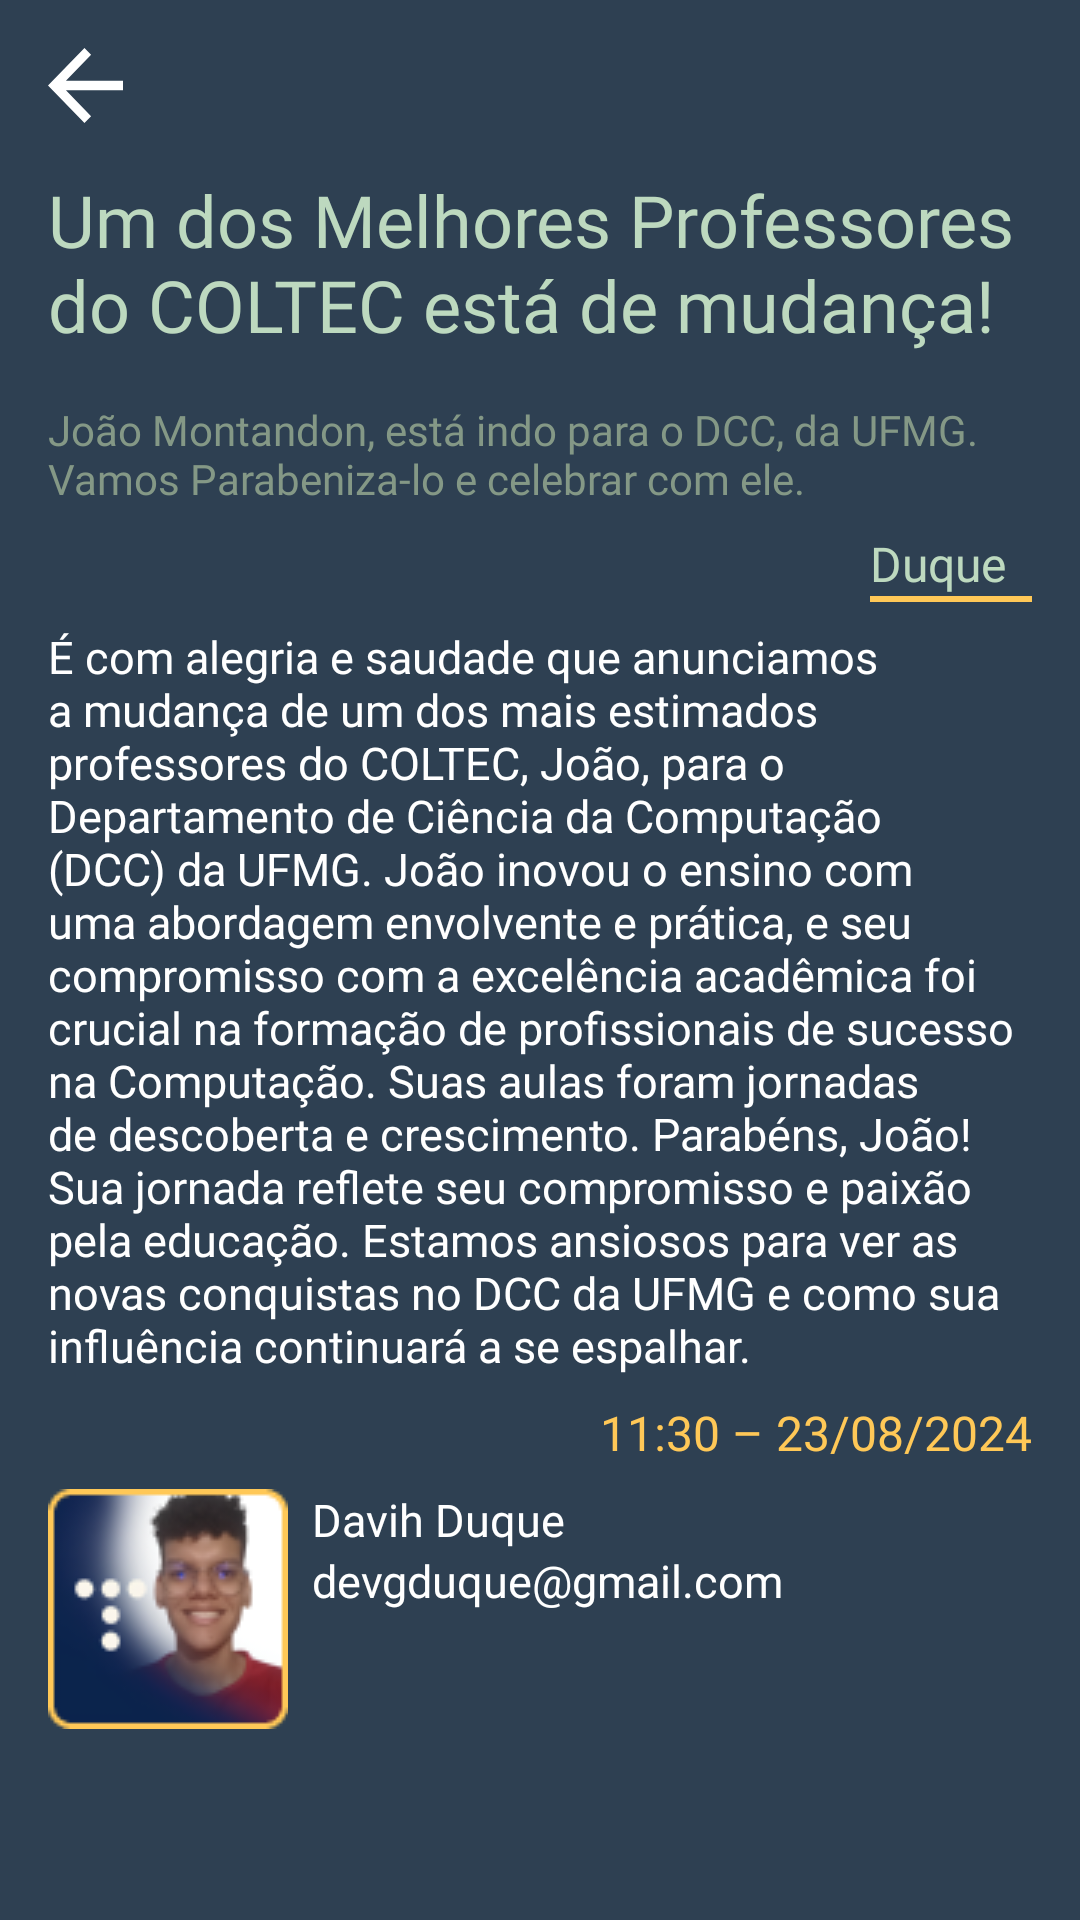

Point at icon controls on the screen. Image size 1080 × 1920, points as (x,y).
authorphoto: (168,1609)
backbutton: (85,85)
